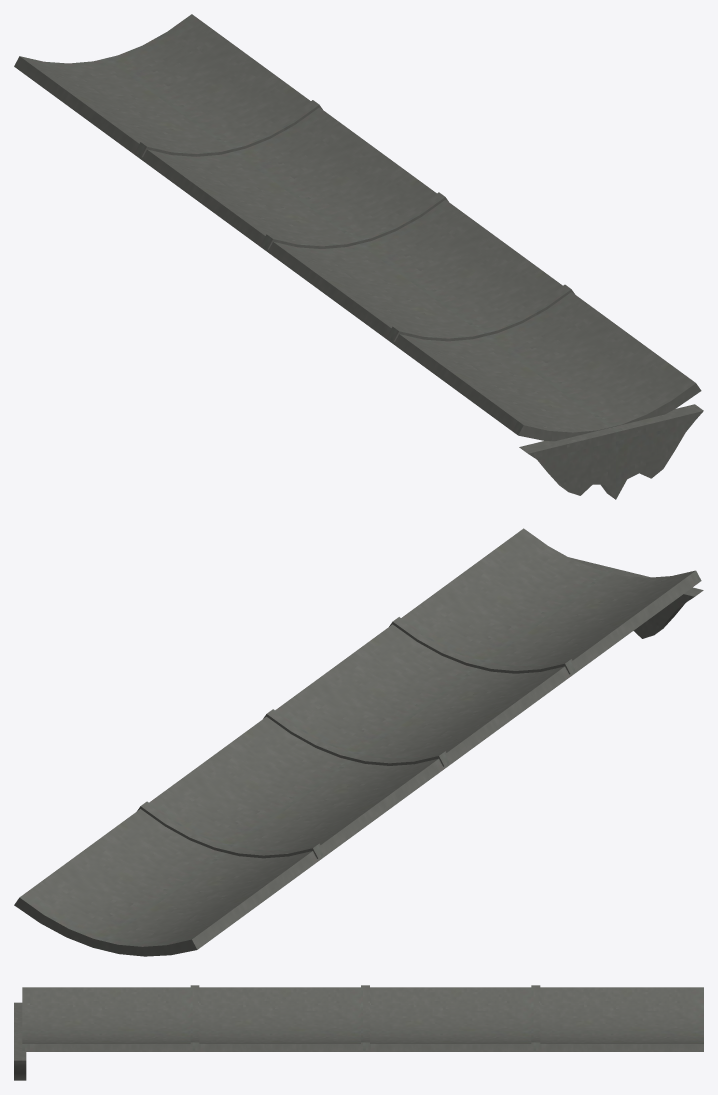
Rendered from wa-banwa-dishui.glb.
The picture shows the model from 3 angles, top to bottom: view 1: azimuth 30°, elevation 25°; view 2: azimuth 150°, elevation 25°; view 3: azimuth 270°, elevation 25°; orthographic projection. The views are drawn at different scales.
Visible parts, largest first — view 1: banwa, dishui; view 2: banwa, dishui; view 3: banwa, dishui.
Part boxes in pixels (x1,y1,x2,y2): banwa: (14,14,701,441); dishui: (519,404,703,499); banwa: (14,528,701,956); dishui: (569,557,703,638); banwa: (22,985,703,1051); dishui: (14,1002,26,1080).
Bounding box in the file's own units: 0.21 × 0.103 × 1.01.
1 material, 1 textured.
